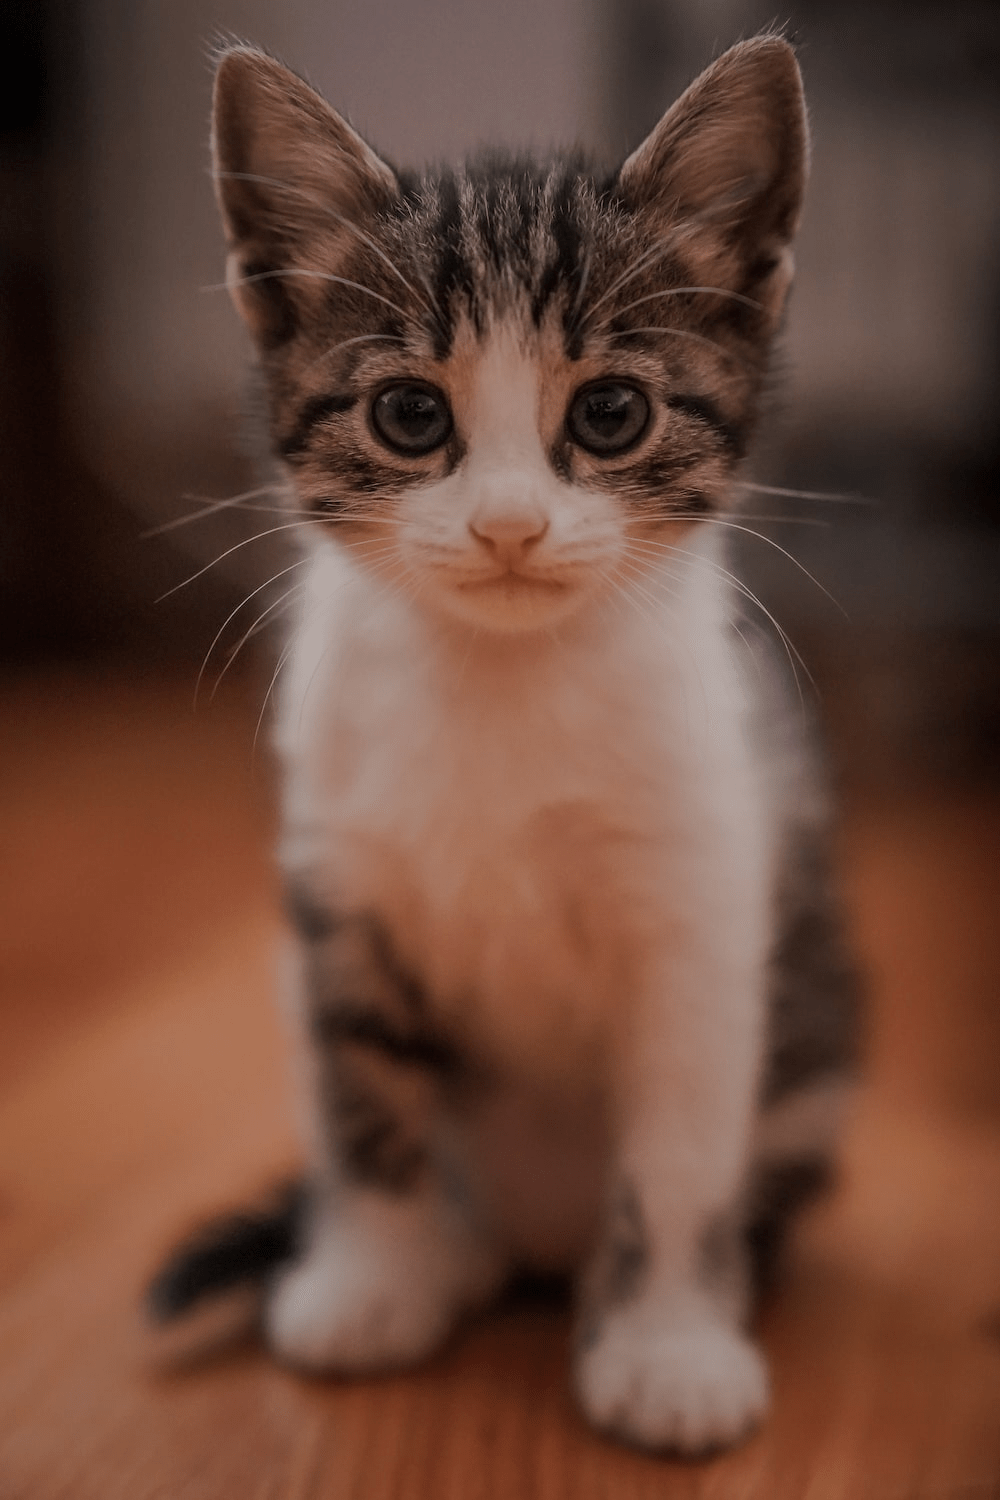cat: (195, 27, 856, 1453)
